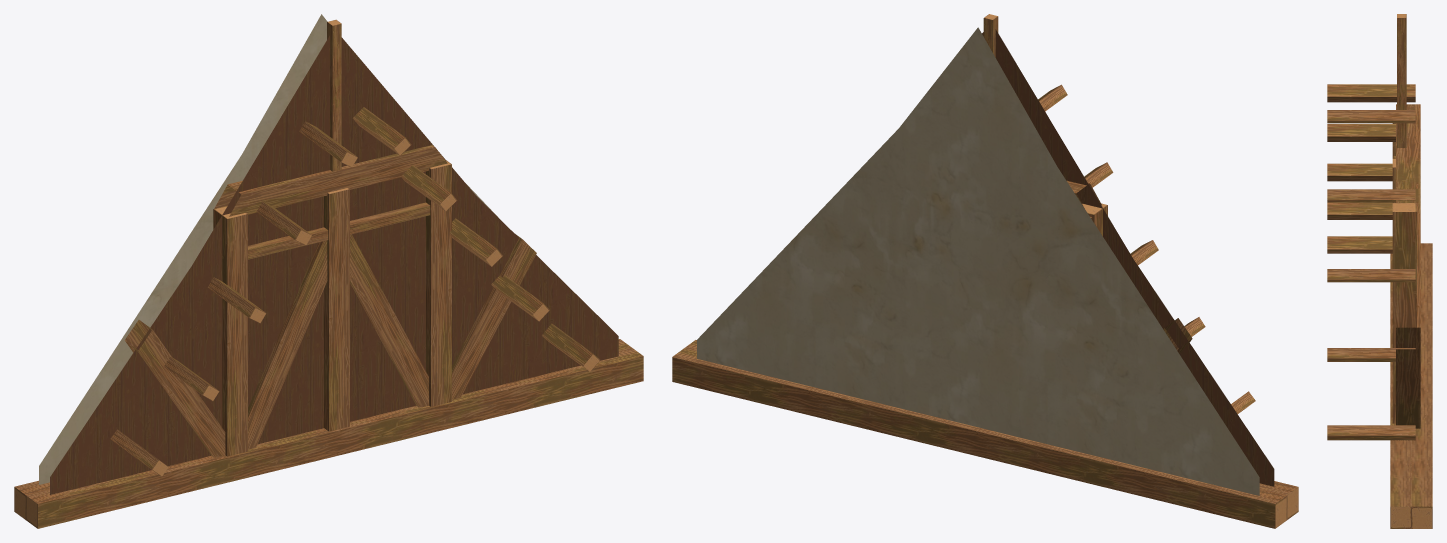
Rendered from Roof_Front_Wood6.gltf.
3 views of the same model, side by side, from view 1: azimuth 30°, elevation 25°; view 2: azimuth 150°, elevation 25°; view 3: azimuth 270°, elevation 25° (orthographic). The views are drawn at different scales.
Visible parts, largest first — view 1: Roof_Front_Wood6; view 2: Roof_Front_Wood6; view 3: Roof_Front_Wood6.
Boxes of the visible parts, x1,y1,x2,y2 form: Roof_Front_Wood6: (14,14,643,528); Roof_Front_Wood6: (672,14,1298,528); Roof_Front_Wood6: (1327,14,1432,528).
Size of the model in its own units: 6.69 by 4.52 by 1.13.
2 materials, 2 textured.
